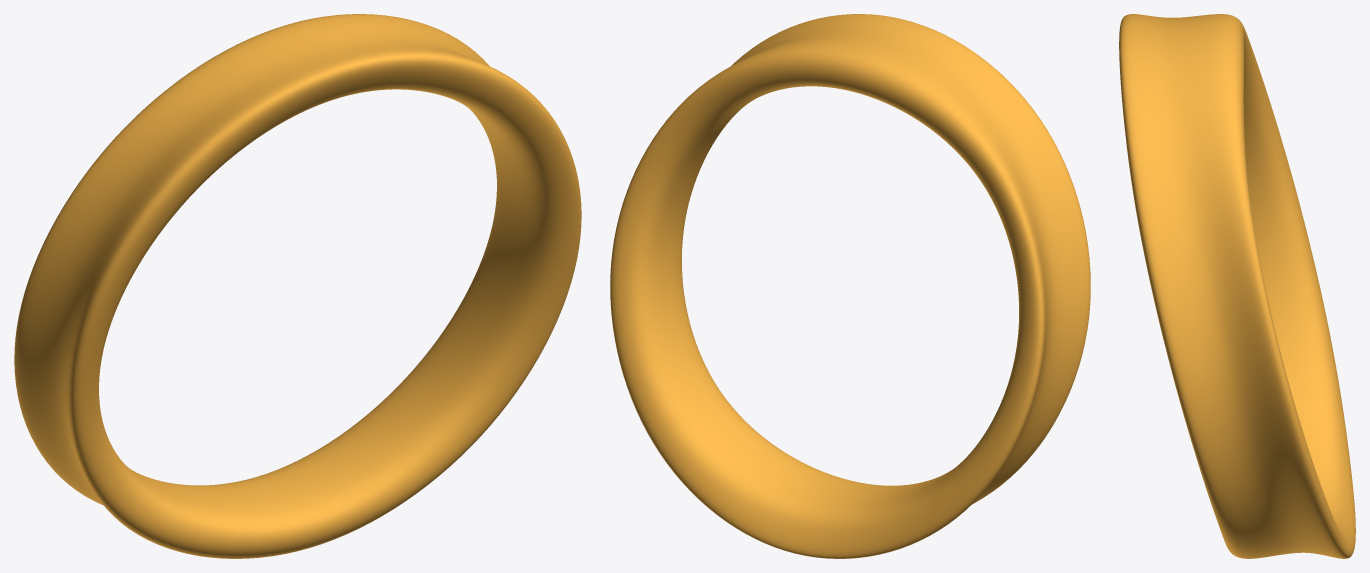
The model's file is disc_gltf.glb.
The picture shows the model from 3 angles, left to right: view 1: azimuth 30°, elevation 25°; view 2: azimuth 150°, elevation 25°; view 3: azimuth 270°, elevation 25°; orthographic projection. The views are drawn at different scales.
Visible parts, largest first — view 1: Ring; view 2: Ring; view 3: Ring.
Part boxes in pixels (<box>): Ring: <box>14,14,581,558</box>; Ring: <box>610,14,1090,558</box>; Ring: <box>1119,14,1355,558</box>.
Size of the model in its own units: 0.0238 by 0.0243 by 0.0105.
